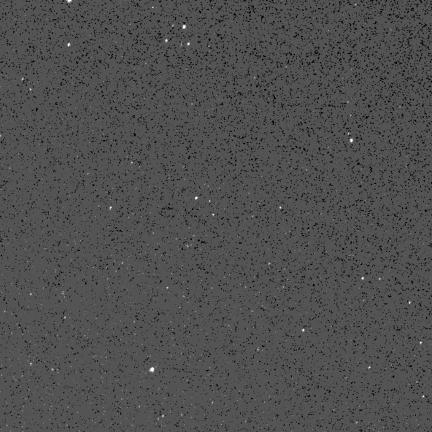blob: (149, 367, 154, 372), (350, 139, 354, 143), (165, 39, 168, 43), (183, 25, 186, 29), (362, 277, 365, 281), (187, 43, 190, 46), (195, 197, 198, 200), (68, 43, 70, 46)
